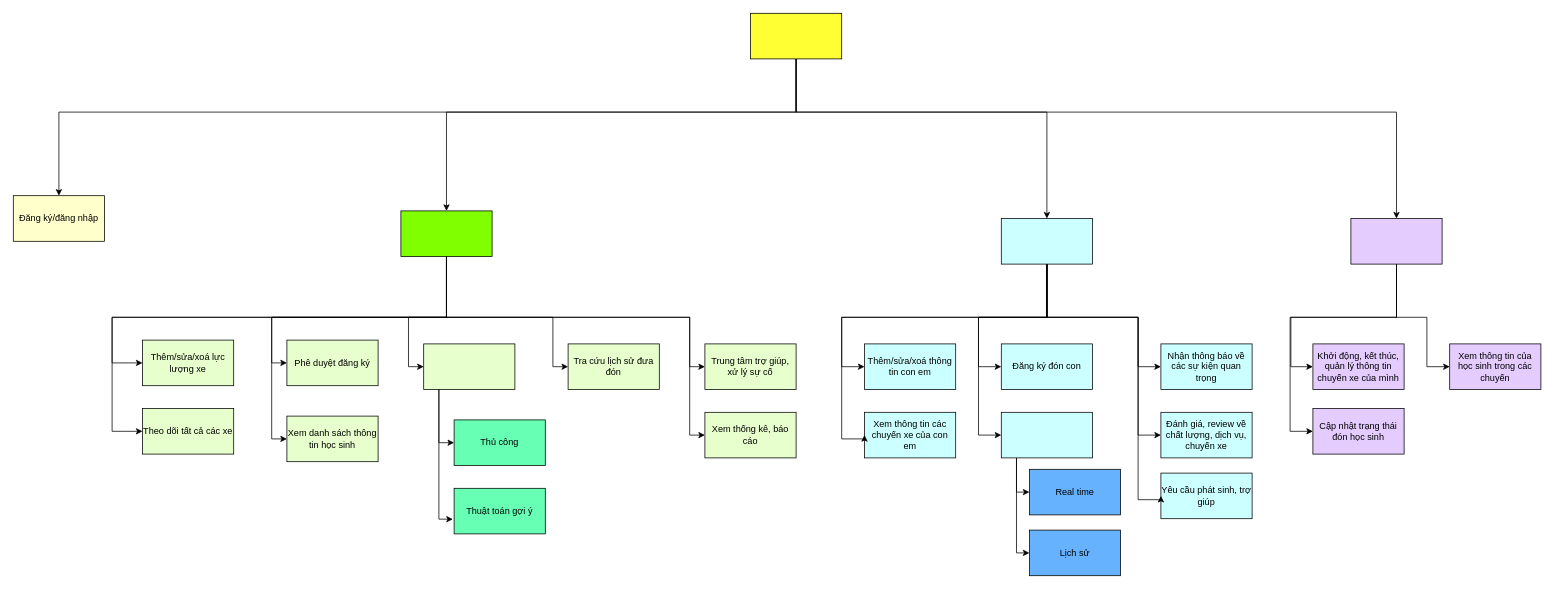
Some shapes in this 1554 by 589 pixel diagram are drawn without their labels. The box of each missing label's shape, as (x1, y1, x2, y2) in pixels:
Admin: (400, 210, 492, 256)
Phụ huynh, học sinh: (1001, 218, 1092, 264)
School bus: (750, 13, 842, 59)
Theo dõi chuyến xe đã đăng ký: (1001, 412, 1092, 458)
Tài xế: (1350, 218, 1442, 264)
Điều phối lịch trình: (423, 343, 515, 390)
